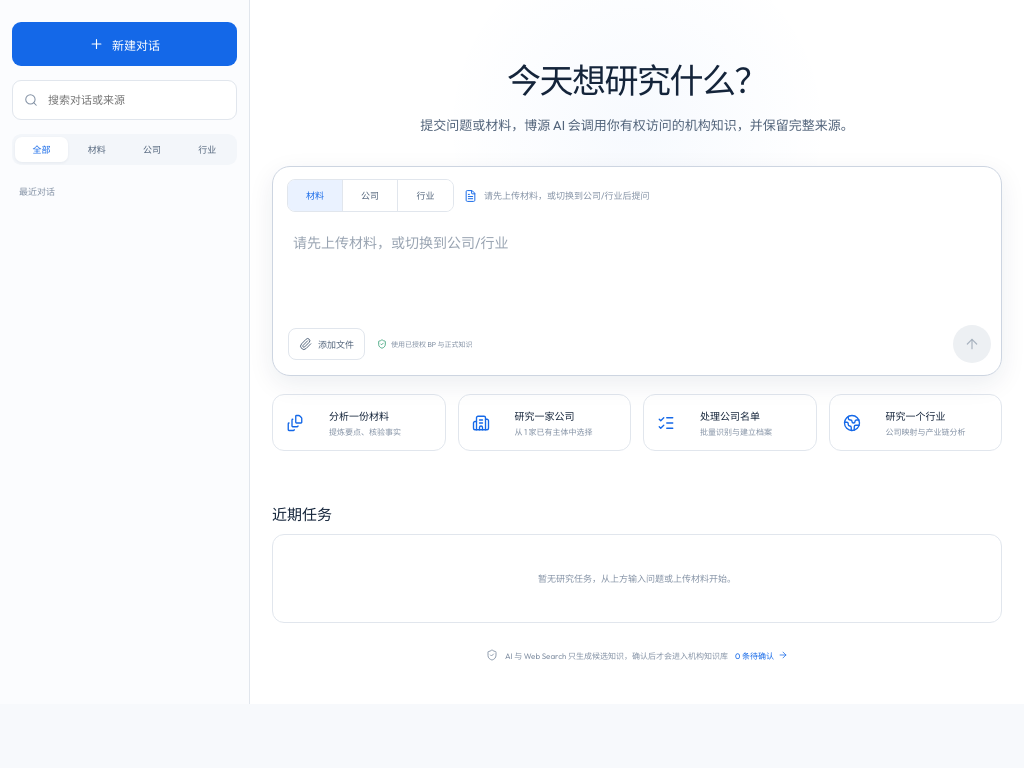
it: 工作台研究平台接缝 › 公司和行业选择器展示目录 API 的真实数量
The width and height of the screenshot is (1024, 768).
Expected: the text "从 1 家已有主体中选择" is shown, [514, 427, 593, 437]
Click the button "公司" in the row of "请先上传材料，或切换到公司/行业后提问" at [370, 196], box [343, 180, 398, 211]
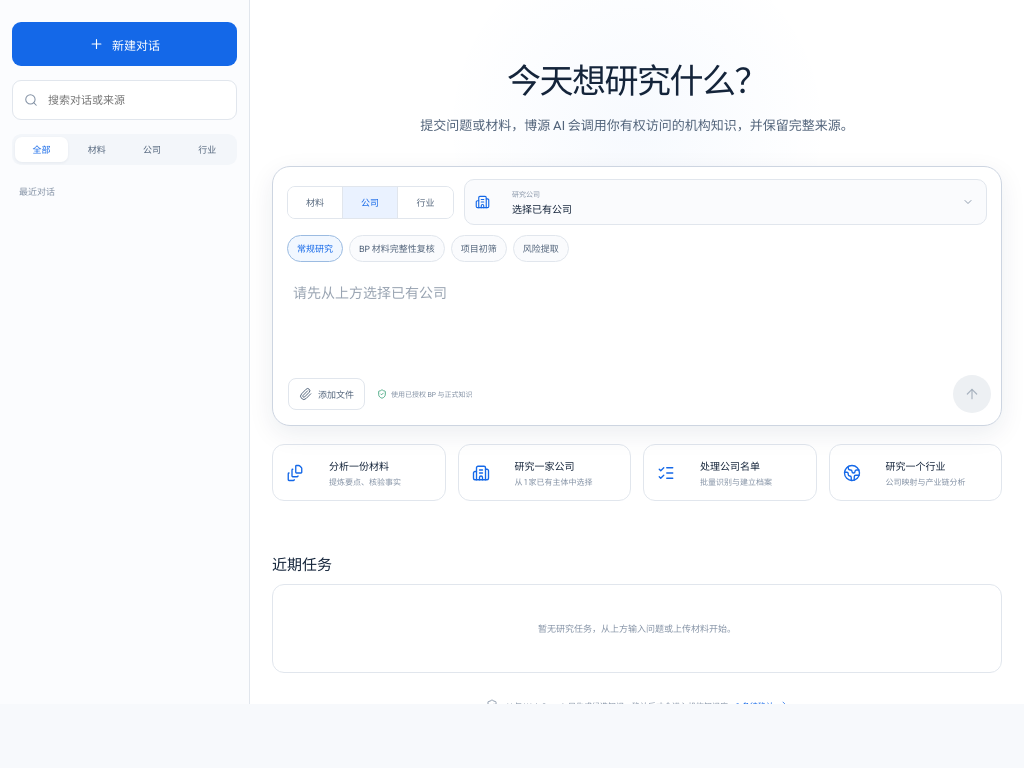
Click the button "研究公司 选择已有公司" at [542, 209], box [464, 179, 987, 225]
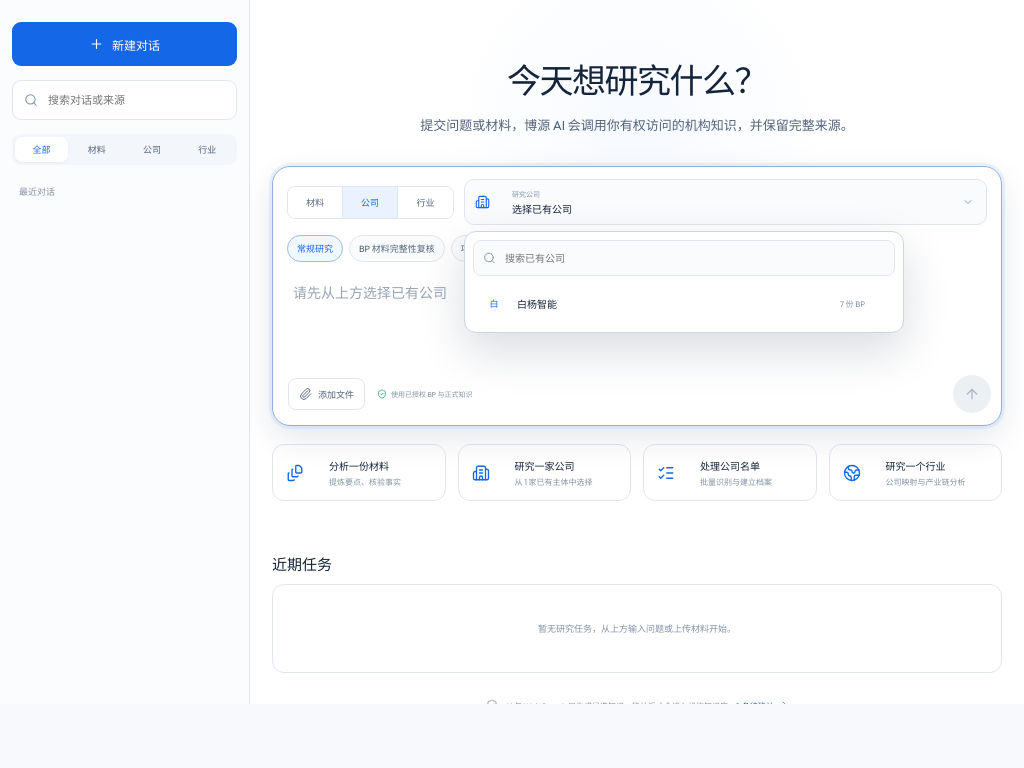
Now the text "7 份 BP" is shown, box [840, 298, 865, 309]
Click the button "行业" below "提交问题或材料，博源 AI 会调用你有权访问的机构知识，并保留完整来源。" at [426, 202], box [398, 187, 453, 218]
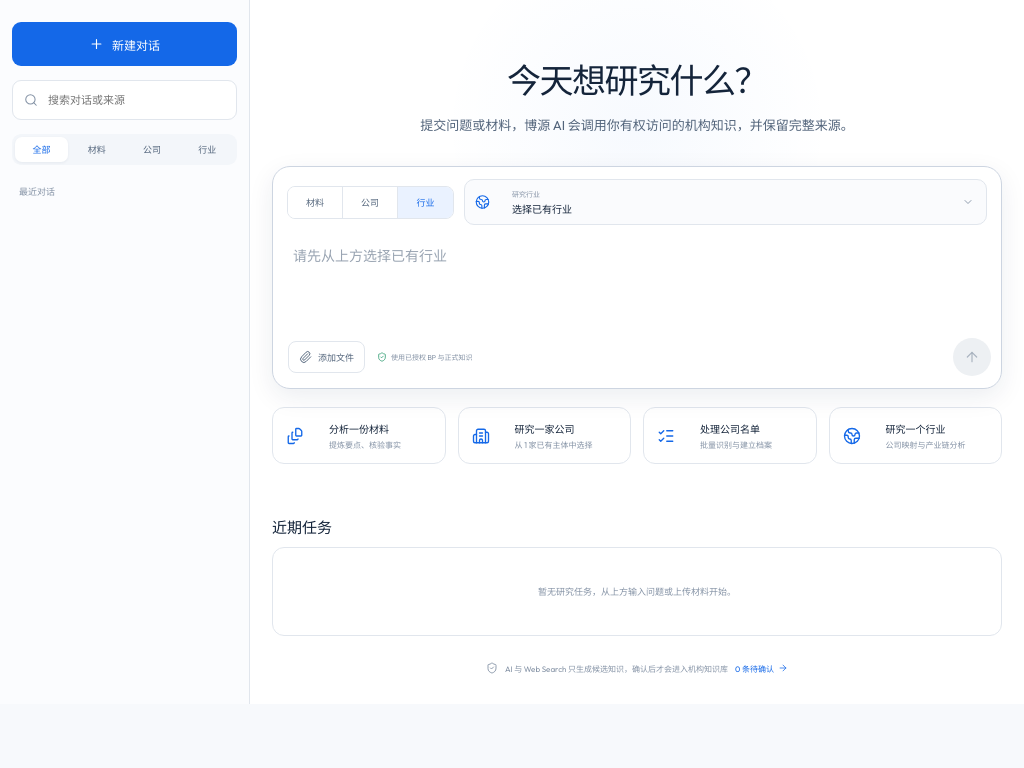
Click the button "研究行业 选择已有行业" at [542, 209], box [464, 179, 987, 225]
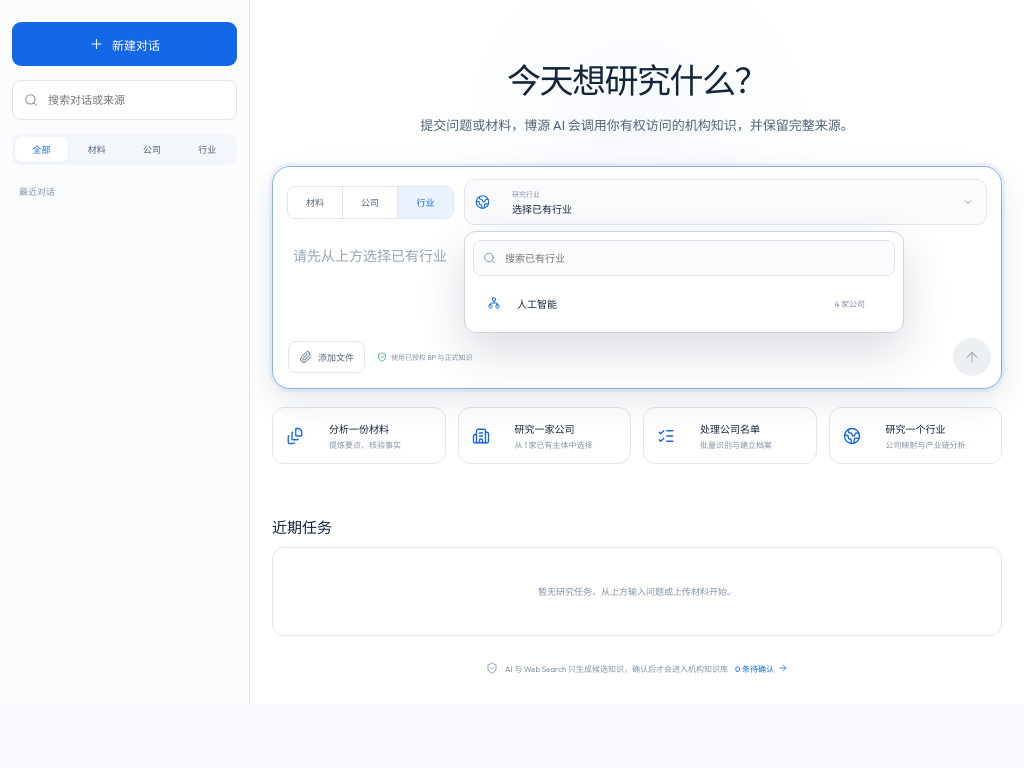
Now the text "4 家公司" is shown, box [834, 298, 865, 309]
